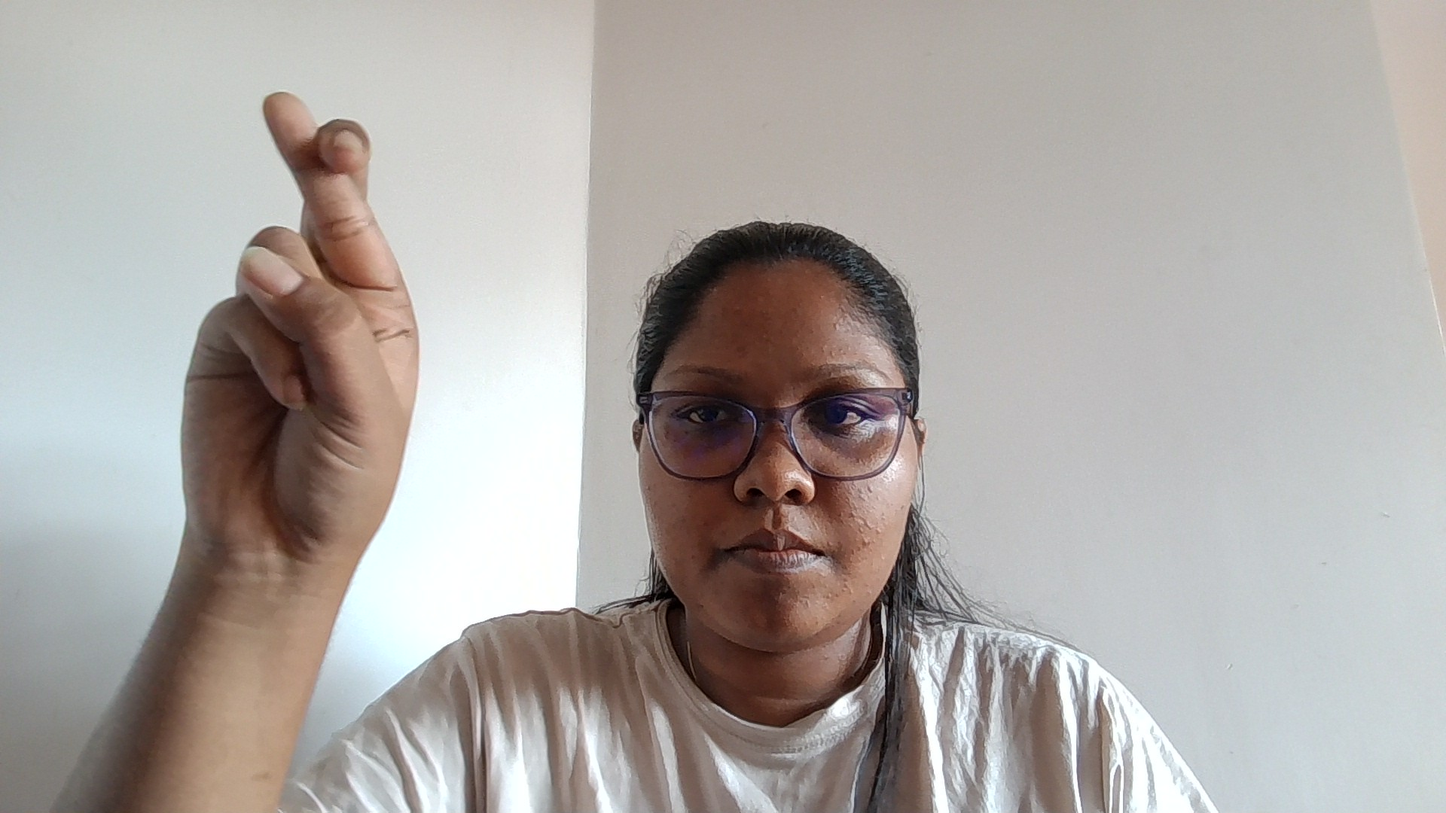Good_Luck: (137, 64, 528, 655)
